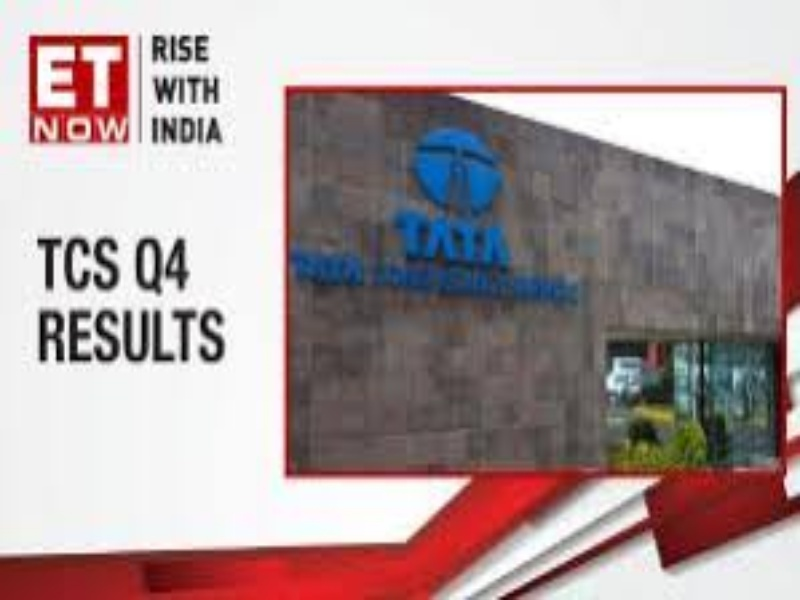tcs: (415, 122, 505, 218)
